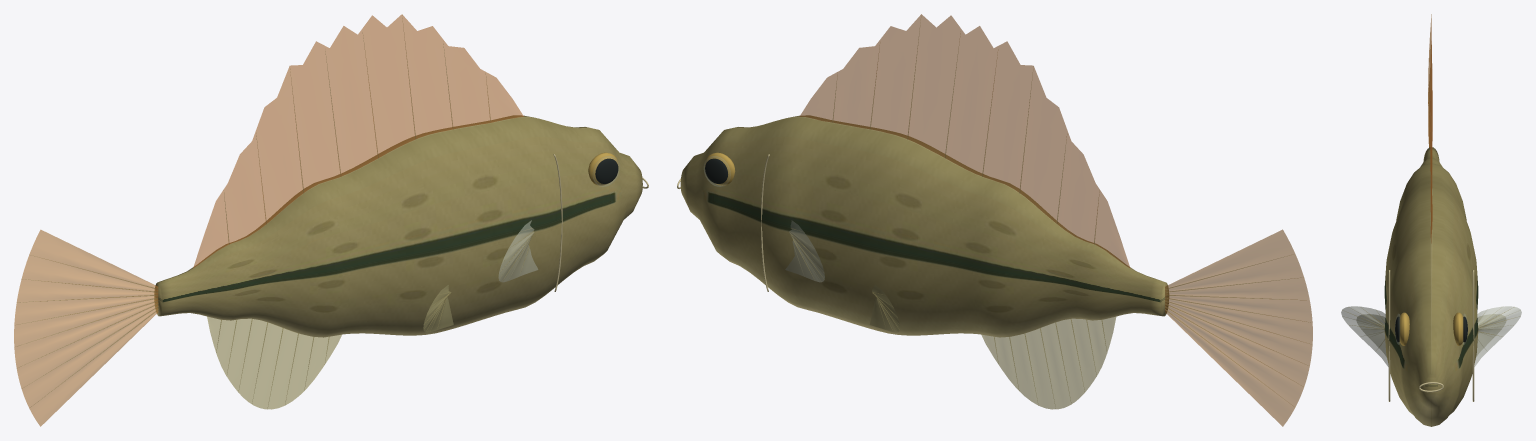
The model's file is apisto-mobile.glb.
The picture shows the model from 3 angles, left to right: view 1: azimuth 30°, elevation 25°; view 2: azimuth 150°, elevation 25°; view 3: azimuth 270°, elevation 25°; orthographic projection. The views are drawn at different scales.
Visible parts, largest first — view 1: skin, dorsal, tail, anal, dorsal-ray, pectoral-left, pelvic-left; view 2: skin, dorsal, tail, anal, dorsal-ray, pectoral-left, pelvic-left; view 3: skin, pectoral-left, pelvic-left, operculum, eye-iris--1, dorsal, dorsal-ray, tail, eye-pupil--1.
Part boxes in pixels (x1,y1,x2,y2): skin: [154, 115, 642, 337]; dorsal: [193, 14, 523, 268]; tail: [14, 230, 158, 426]; anal: [207, 316, 341, 409]; dorsal-ray: [17, 14, 533, 407]; pectoral-left: [498, 220, 537, 282]; pelvic-left: [423, 285, 453, 332]; skin: [680, 115, 1168, 337]; dorsal: [799, 14, 1129, 267]; tail: [1165, 229, 1312, 426]; anal: [981, 317, 1116, 409]; dorsal-ray: [789, 16, 1310, 400]; pectoral-left: [785, 220, 824, 282]; pelvic-left: [870, 285, 899, 332]; skin: [1384, 147, 1478, 426]; pectoral-left: [1341, 306, 1521, 366]; pelvic-left: [1357, 314, 1505, 356]; operculum: [1388, 270, 1474, 401]; eye-iris--1: [1399, 312, 1463, 345]; dorsal: [1430, 27, 1432, 243]; dorsal-ray: [1342, 307, 1519, 350]; tail: [1428, 14, 1432, 147]; eye-pupil--1: [1395, 316, 1467, 342].
Size of the model in its own units: 0.6212 by 0.3486 by 0.1621.
Materials: 11 (1 with a texture image).
